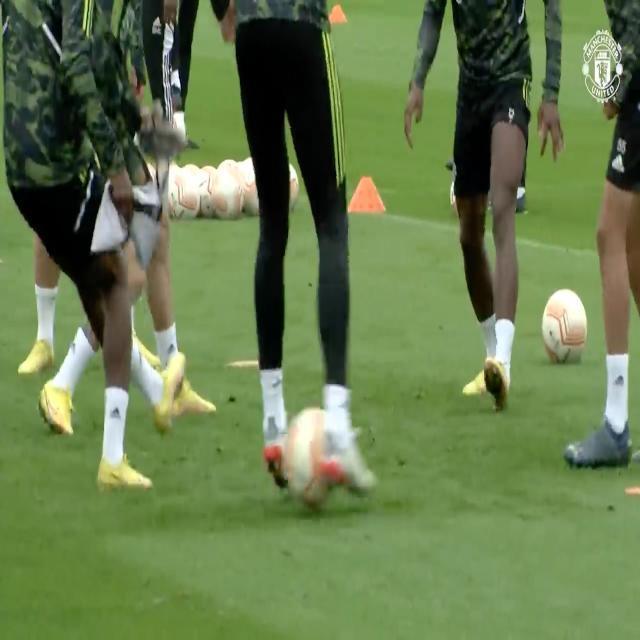Adidas: (108, 403, 122, 422), (613, 371, 626, 389)
